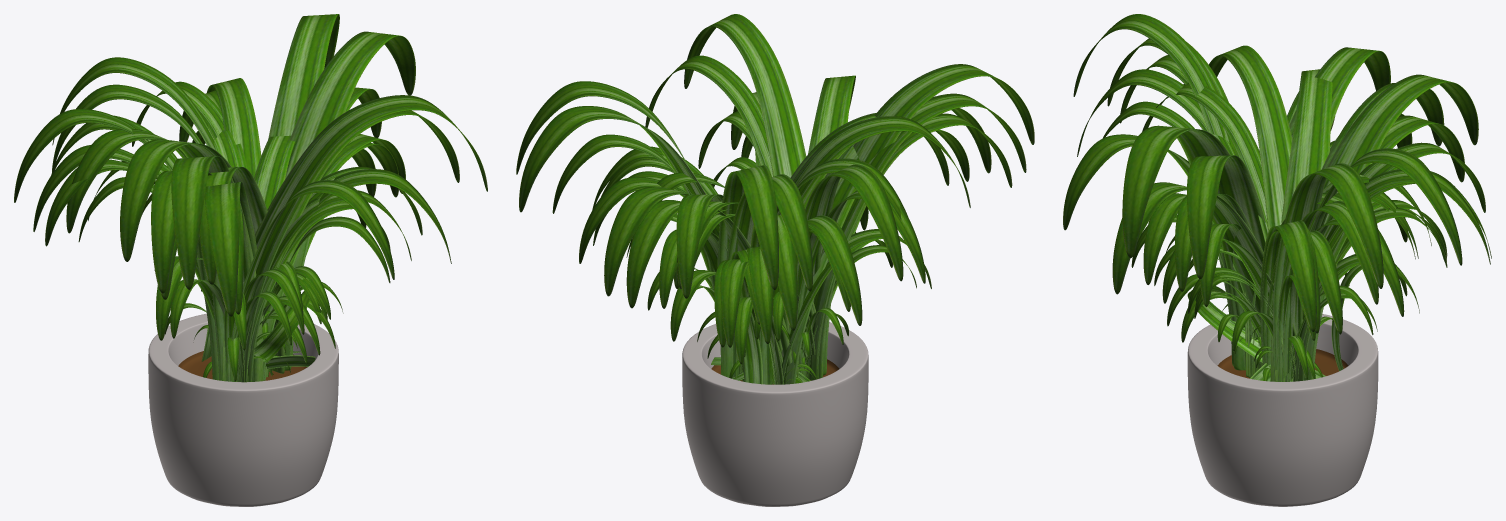
File: plant_with_pot.glb
3 renders of one model, left to right at view 1: azimuth 30°, elevation 25°; view 2: azimuth 150°, elevation 25°; view 3: azimuth 270°, elevation 25°, orthographic. The views are drawn at different scales.
Visible parts, largest first — view 1: Cylinder_0, Plane.052_52, Plane.048_48, Plane.043_43, Plane.078_78, Plane.011_11, Plane.060_60, Plane.042_42, Plane.065_65, Plane.028_28, Plane.015_15, Plane.079_79 (+27 smaller); view 2: Cylinder_0, Plane.052_52, Plane.043_43, Plane.042_42, Plane.078_78, Plane.090_90, Plane.091_91, Plane.079_79, Plane.073_73, Plane.065_65, Plane.060_60, Plane.002_2 (+26 smaller); view 3: Cylinder_0, Plane.060_60, Plane.073_73, Plane.042_42, Plane.048_48, Plane.052_52, Plane.015_15, Plane.043_43, Plane.078_78, Plane.056_56, Plane.051_51, Plane.017_17 (+26 smaller).
Boxes of the visible parts, x1=… form: Cylinder_0: x1=148, y1=313, x2=338, y2=506; Plane.052_52: x1=237, y1=95, x2=487, y2=382; Plane.048_48: x1=284, y1=31, x2=415, y2=370; Plane.043_43: x1=171, y1=156, x2=263, y2=381; Plane.078_78: x1=268, y1=14, x2=339, y2=355; Plane.011_11: x1=204, y1=181, x2=267, y2=377; Plane.060_60: x1=120, y1=139, x2=288, y2=341; Plane.042_42: x1=52, y1=57, x2=268, y2=376; Plane.065_65: x1=207, y1=78, x2=261, y2=177; Plane.028_28: x1=230, y1=180, x2=394, y2=381; Plane.015_15: x1=66, y1=129, x2=284, y2=373; Plane.079_79: x1=151, y1=171, x2=261, y2=381; Cylinder_0: x1=682, y1=322, x2=868, y2=506; Plane.052_52: x1=684, y1=14, x2=806, y2=334; Plane.043_43: x1=818, y1=64, x2=1034, y2=378; Plane.042_42: x1=717, y1=165, x2=778, y2=375; Plane.078_78: x1=519, y1=106, x2=706, y2=212; Plane.090_90: x1=724, y1=174, x2=813, y2=377; Plane.091_91: x1=789, y1=164, x2=903, y2=334; Plane.079_79: x1=807, y1=93, x2=1026, y2=378; Plane.073_73: x1=645, y1=55, x2=806, y2=377; Plane.065_65: x1=604, y1=186, x2=792, y2=367; Plane.060_60: x1=742, y1=116, x2=970, y2=381; Plane.002_2: x1=626, y1=200, x2=791, y2=353; Cylinder_0: x1=1187, y1=314, x2=1378, y2=506; Plane.060_60: x1=1209, y1=45, x2=1292, y2=381; Plane.073_73: x1=1187, y1=155, x2=1265, y2=370; Plane.042_42: x1=1304, y1=74, x2=1478, y2=380; Plane.048_48: x1=1273, y1=163, x2=1383, y2=381; Plane.052_52: x1=1122, y1=125, x2=1233, y2=366; Plane.015_15: x1=1270, y1=69, x2=1332, y2=381; Plane.043_43: x1=1073, y1=14, x2=1253, y2=377; Plane.078_78: x1=1282, y1=148, x2=1462, y2=381; Plane.056_56: x1=1112, y1=182, x2=1263, y2=366; Plane.051_51: x1=1142, y1=83, x2=1289, y2=381; Plane.017_17: x1=1260, y1=220, x2=1316, y2=365.
Size of the model in its own units: 4.68 by 4.45 by 4.38.
3 materials, 1 textured.
